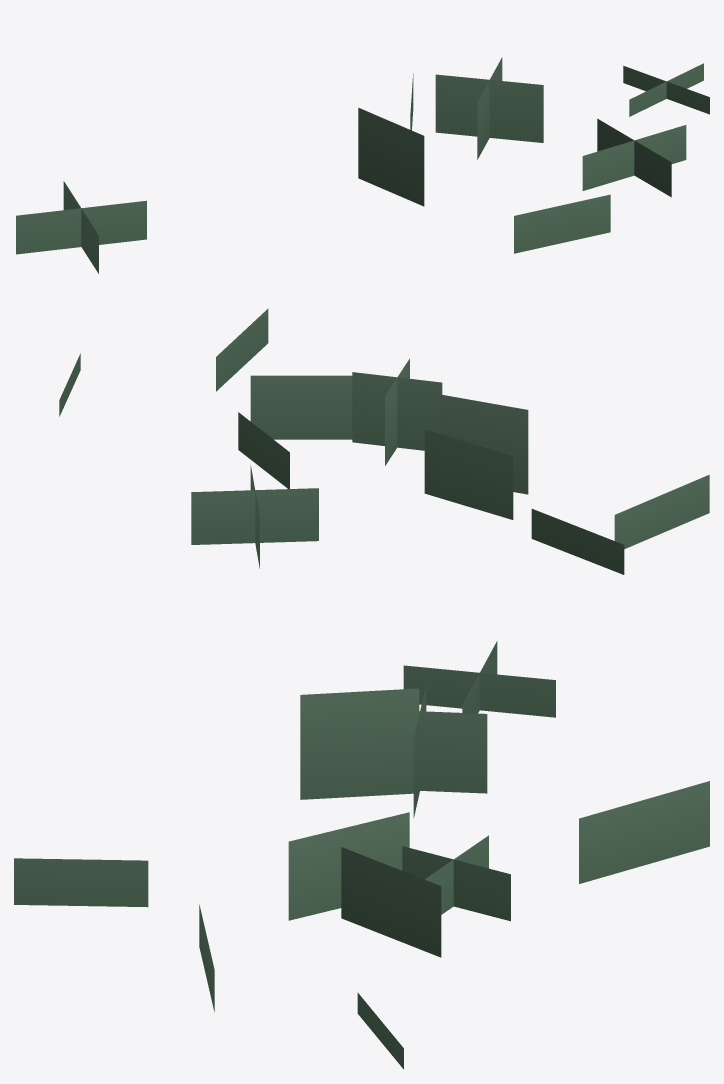
File: moss_patch_v3.glb
3 renders of one model, top to bottom at view 1: azimuth 30°, elevation 25°; view 2: azimuth 150°, elevation 25°; view 3: azimuth 270°, elevation 25°, orthographic. The views are drawn at different scales.
Visible parts, largest first — view 1: world; view 2: world; view 3: world.
Part boxes in pixels (<box>): world: <box>16,57,709,273</box>; world: <box>59,308,709,574</box>; world: <box>14,641,709,1069</box>.
Bounding box in the file's own units: 1 × 0.1174 × 0.7051.
